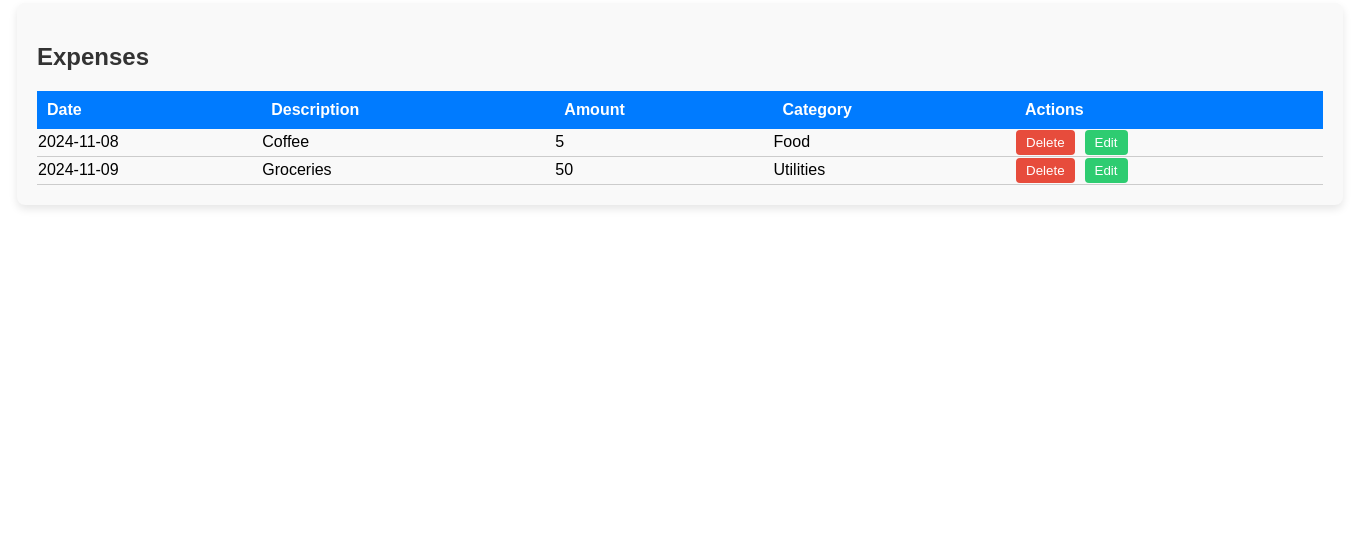
Test: ExpenseList Component › handles edit action and populates form with selected expense
The image size is (1361, 536).
// Click the edit button for the first expense
Click the button "Edit" in the row of "2024-11-08".
click(1106, 142)  # box [1084,130,1128,155]
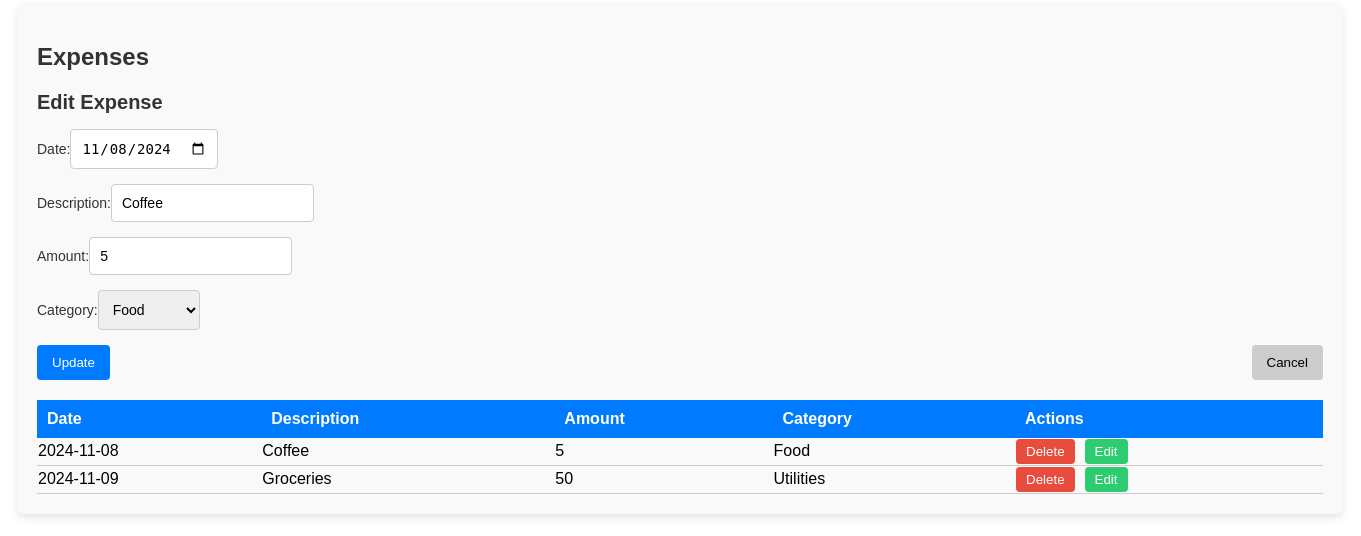
Now the date field labelled "Date:" holds "2024-11-08", box [70,129,218,169]
Now the field labelled "Description:" holds "Coffee", box [111,184,314,222]
Now the number field labelled "Amount:" holds "5", box [89,237,292,275]
